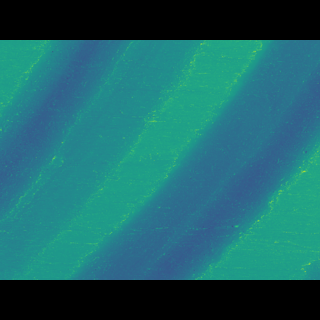Loch: (65, 69, 320, 251), (0, 68, 137, 209)
